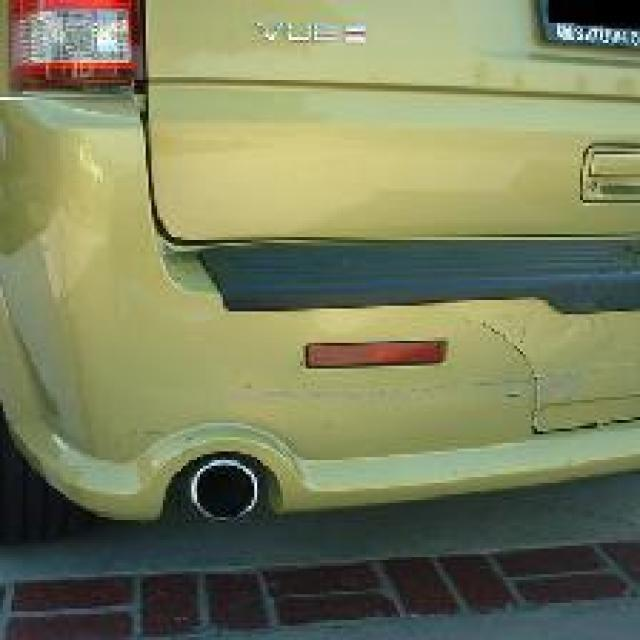damaged: (240, 322, 637, 438)
